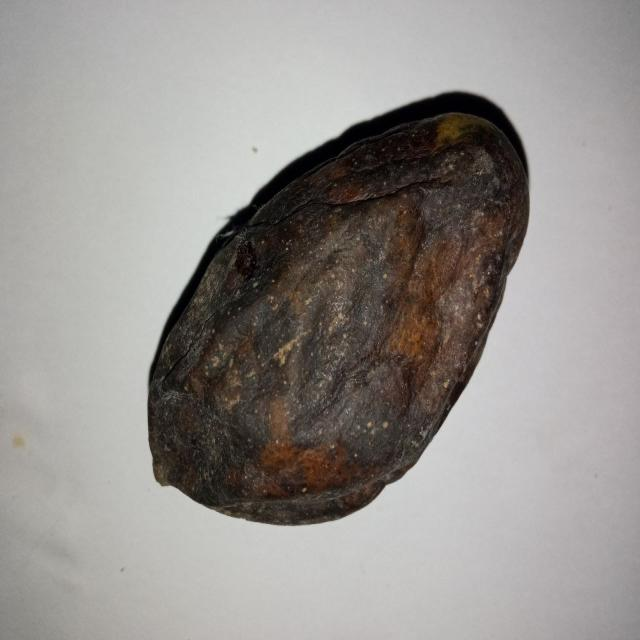rotten_mango: (142, 110, 527, 529)
